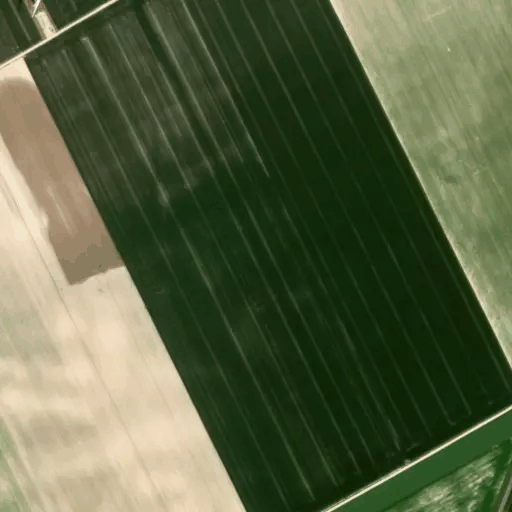wt: (18, 1, 52, 24)
